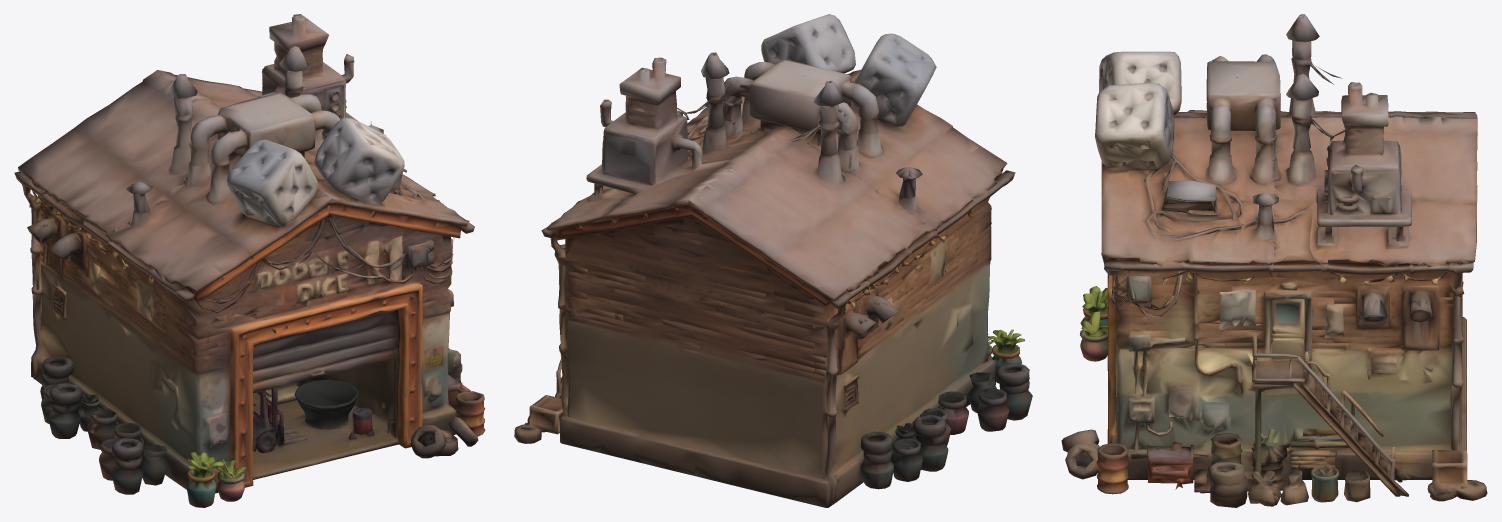
The model's file is garage_doubledice11.glb.
The picture shows the model from 3 angles, left to right: view 1: azimuth 30°, elevation 25°; view 2: azimuth 150°, elevation 25°; view 3: azimuth 270°, elevation 25°; orthographic projection. The views are drawn at different scales.
Visible parts, largest first — view 1: tripo_part_0, tripo_part_1, tripo_part_4, tripo_part_13, tripo_part_6, tripo_part_5, tripo_part_15, tripo_part_8, tripo_part_12, tripo_part_20, tripo_part_11, tripo_part_7 (+2 smaller); view 2: tripo_part_0, tripo_part_1, tripo_part_4, tripo_part_7, tripo_part_9, tripo_part_13, tripo_part_18, tripo_part_6, tripo_part_14, tripo_part_20; view 3: tripo_part_0, tripo_part_1, tripo_part_2, tripo_part_9, tripo_part_16, tripo_part_17, tripo_part_8, tripo_part_12, tripo_part_10, tripo_part_19, tripo_part_22, tripo_part_6 (+2 smaller).
Part boxes in pixels (box(x1,y1,x2,y2)): tripo_part_0: box(14, 171, 474, 493); tripo_part_1: box(18, 14, 468, 301); tripo_part_4: box(41, 382, 100, 438); tripo_part_13: box(111, 438, 143, 494); tripo_part_6: box(186, 452, 224, 507); tripo_part_5: box(256, 387, 306, 453); tripo_part_15: box(410, 425, 458, 458); tripo_part_8: box(455, 391, 485, 436); tripo_part_12: box(215, 458, 246, 501); tripo_part_20: box(140, 444, 167, 485); tripo_part_11: box(87, 408, 118, 449); tripo_part_7: box(40, 356, 73, 400); tripo_part_0: box(541, 105, 1015, 507); tripo_part_1: box(546, 14, 1007, 305); tripo_part_4: box(891, 414, 948, 481); tripo_part_7: box(860, 431, 893, 489); tripo_part_9: box(514, 395, 563, 443); tripo_part_13: box(996, 363, 1032, 420); tripo_part_18: box(976, 388, 1009, 431); tripo_part_6: box(988, 329, 1024, 383); tripo_part_14: box(938, 391, 968, 434); tripo_part_20: box(967, 372, 996, 412); tripo_part_0: box(1101, 253, 1473, 496); tripo_part_1: box(1095, 14, 1477, 277); tripo_part_2: box(1194, 429, 1339, 502); tripo_part_9: box(1427, 449, 1487, 501); tripo_part_16: box(1131, 442, 1208, 489); tripo_part_17: box(1208, 461, 1248, 507); tripo_part_8: box(1096, 443, 1128, 494); tripo_part_12: box(1080, 311, 1107, 361); tripo_part_10: box(1248, 470, 1281, 506); tripo_part_19: box(1065, 443, 1097, 479); tripo_part_22: box(1344, 470, 1370, 502); tripo_part_6: box(1082, 286, 1107, 329).
Size of the model in its own units: 0.9804 by 0.8663 by 0.8959.
Materials: 1 (1 with a texture image).
